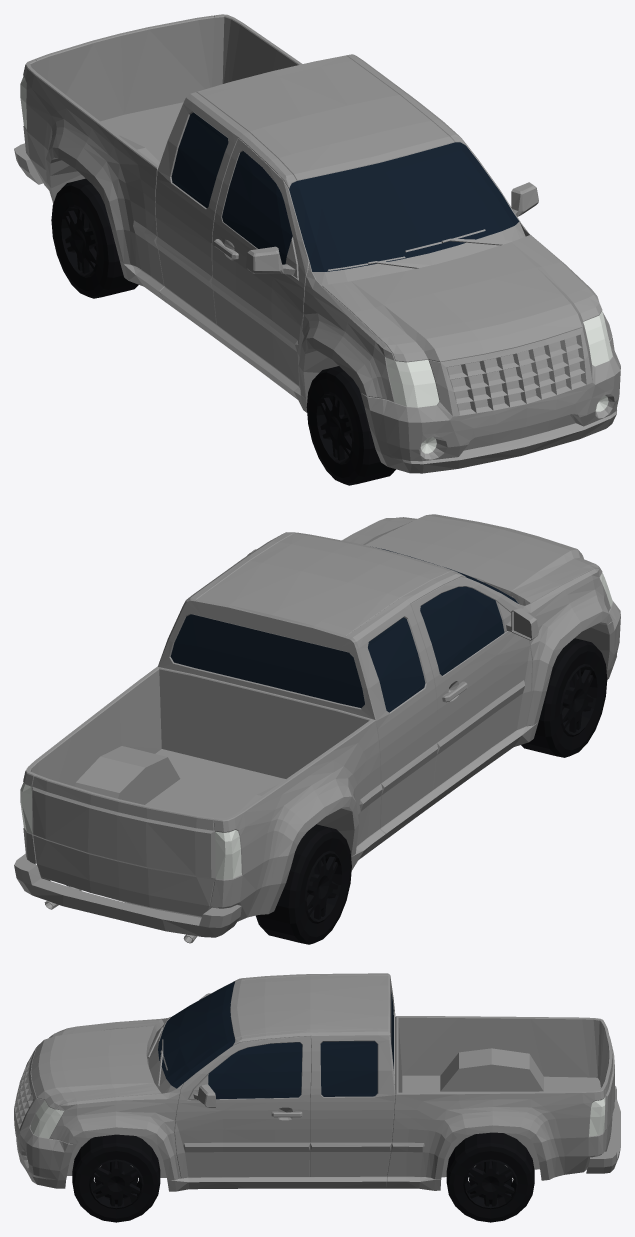
File: pickup.obj
3 renders of one model, top to bottom at view 1: azimuth 30°, elevation 25°; view 2: azimuth 150°, elevation 25°; view 3: azimuth 270°, elevation 25°, orthographic. The views are drawn at different scales.
Visible parts, largest first — view 1: pickup-body, wheel_e003; view 2: pickup-body, wheel_e003; view 3: pickup-body, wheel_e003.
Part boxes in pixels (x1,y1,x2,y2): pickup-body: [14, 14, 620, 473]; wheel_e003: [51, 178, 395, 485]; pickup-body: [14, 514, 620, 943]; wheel_e003: [66, 638, 607, 944]; pickup-body: [14, 973, 620, 1191]; wheel_e003: [72, 1132, 534, 1222].
Size of the model in its own units: 1.64 by 1.34 by 4.1.
